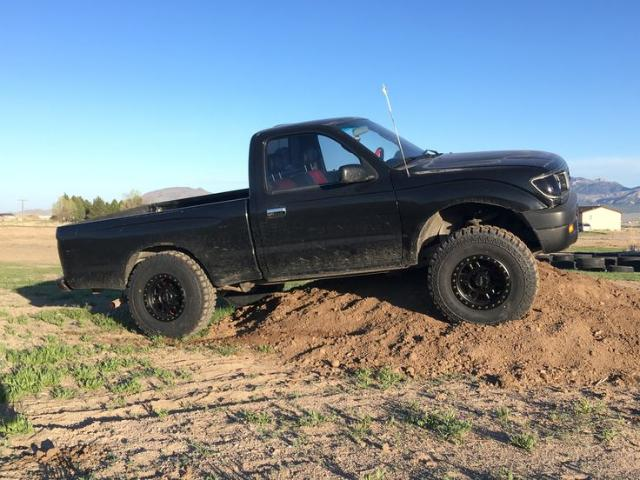pickup-truck: (54, 117, 580, 342)
